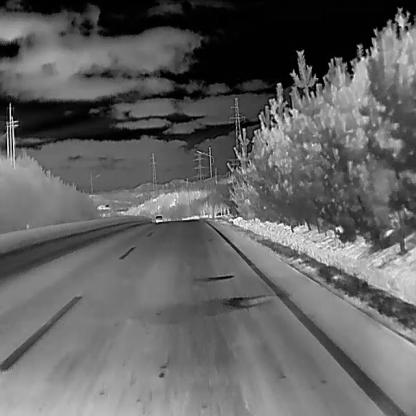car: (154, 214, 161, 222)
